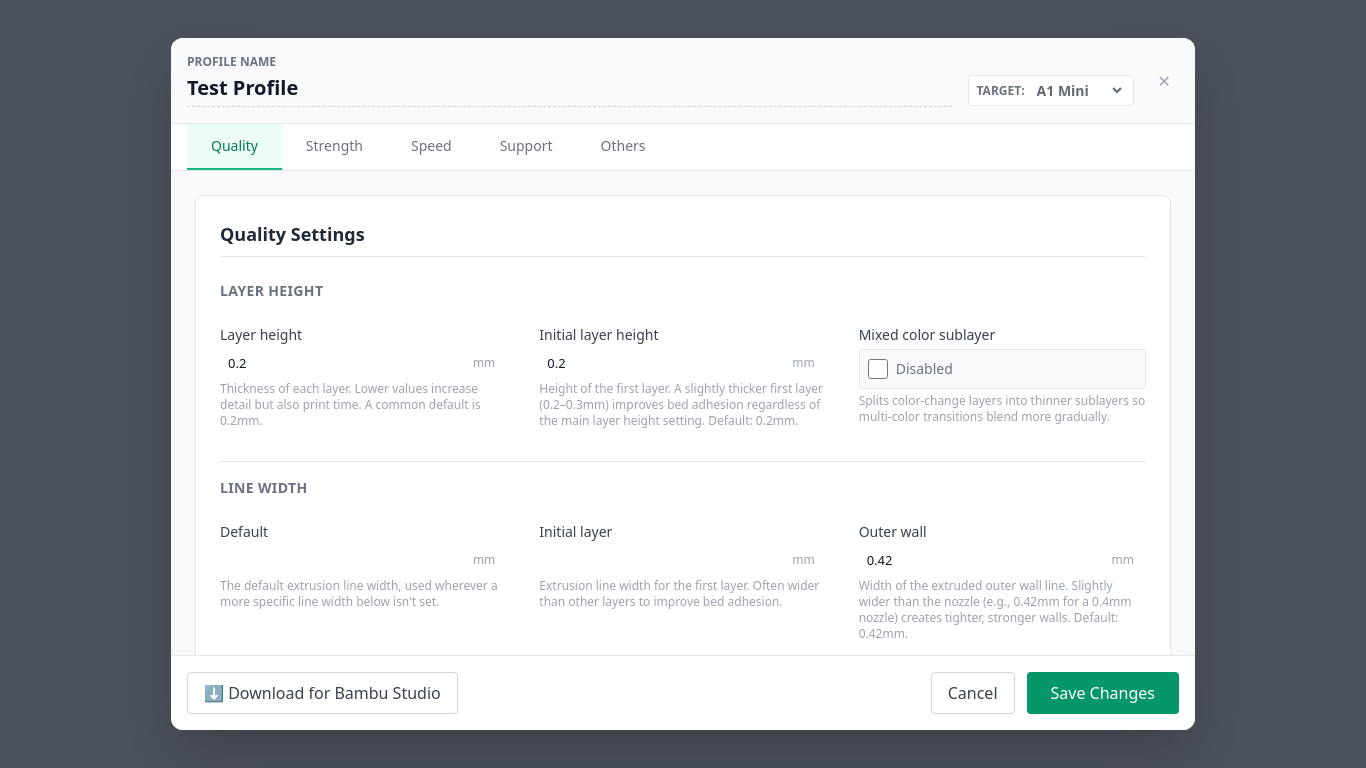
Test case: EditorModal — profile type › switching to Others tab shows the new section headings and Notes/Post-processing textareas
Click the button "Others" at (623, 147), box [576, 124, 670, 170]
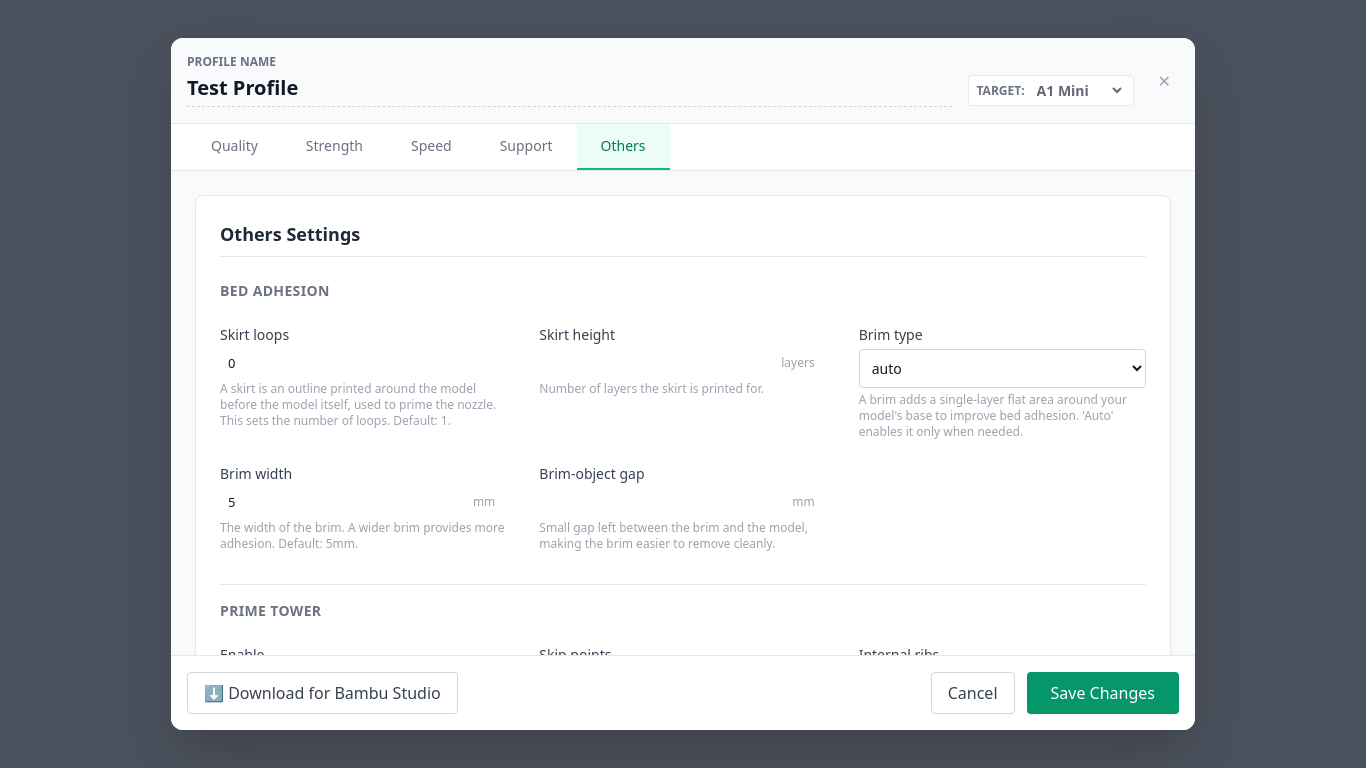
Check: the text "Prime tower" is shown, box [220, 601, 322, 620]
